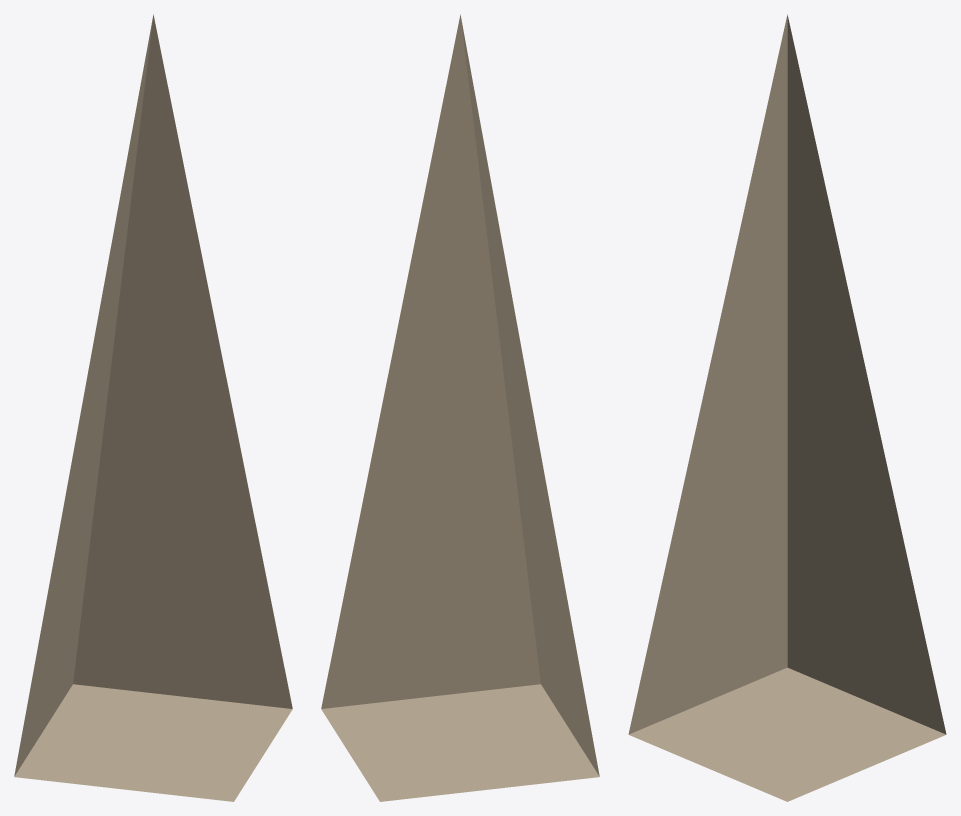
File: eiffel-tower.glb
3 views of the same model, side by side, from view 1: azimuth 30°, elevation 25°; view 2: azimuth 150°, elevation 25°; view 3: azimuth 270°, elevation 25° (orthographic).
Visible parts, largest first — view 1: eiffel-tower; view 2: eiffel-tower; view 3: eiffel-tower.
Boxes of the visible parts, x1,y1,x2,y2 form: eiffel-tower: (14,14,292,801); eiffel-tower: (321,14,599,801); eiffel-tower: (628,14,946,801).
Bounding box in the file's own units: 1 × 2.5 × 1.
